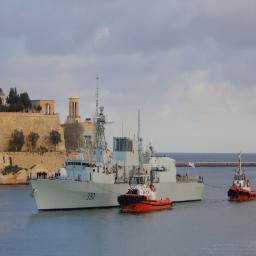Fragata: (26, 69, 207, 215)
